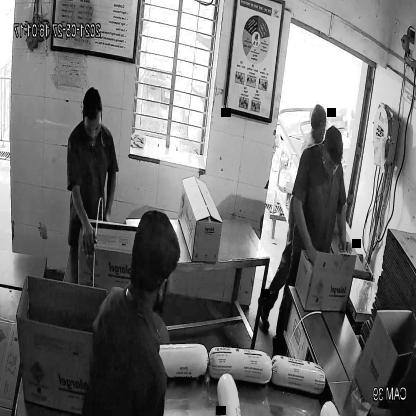no_goggles: (80, 118, 104, 138)
